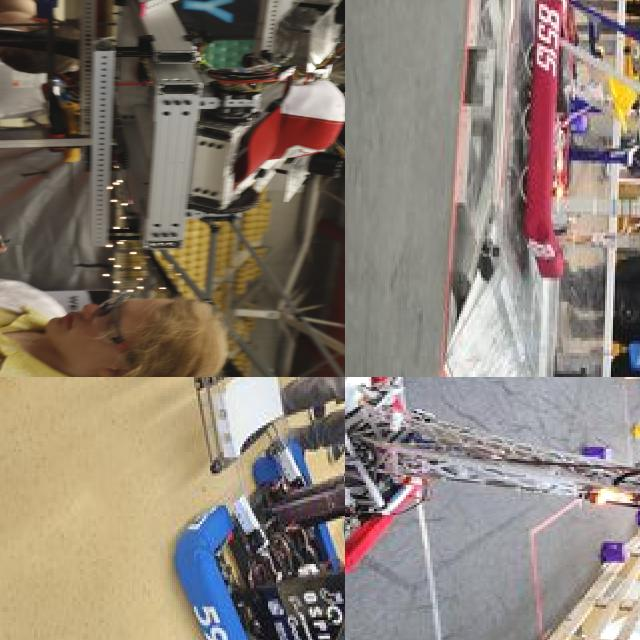FRC-Robots: (345, 377, 640, 599), (492, 0, 640, 305), (191, 377, 345, 640)
